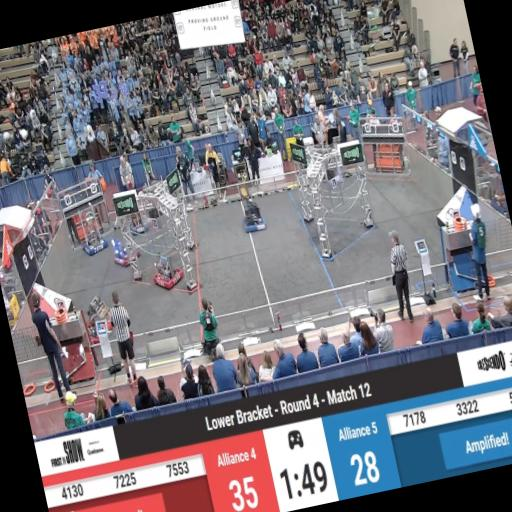robot: (74, 200, 110, 258), (81, 292, 120, 338), (148, 251, 186, 291), (110, 234, 144, 269), (238, 198, 266, 234), (128, 218, 148, 236)
